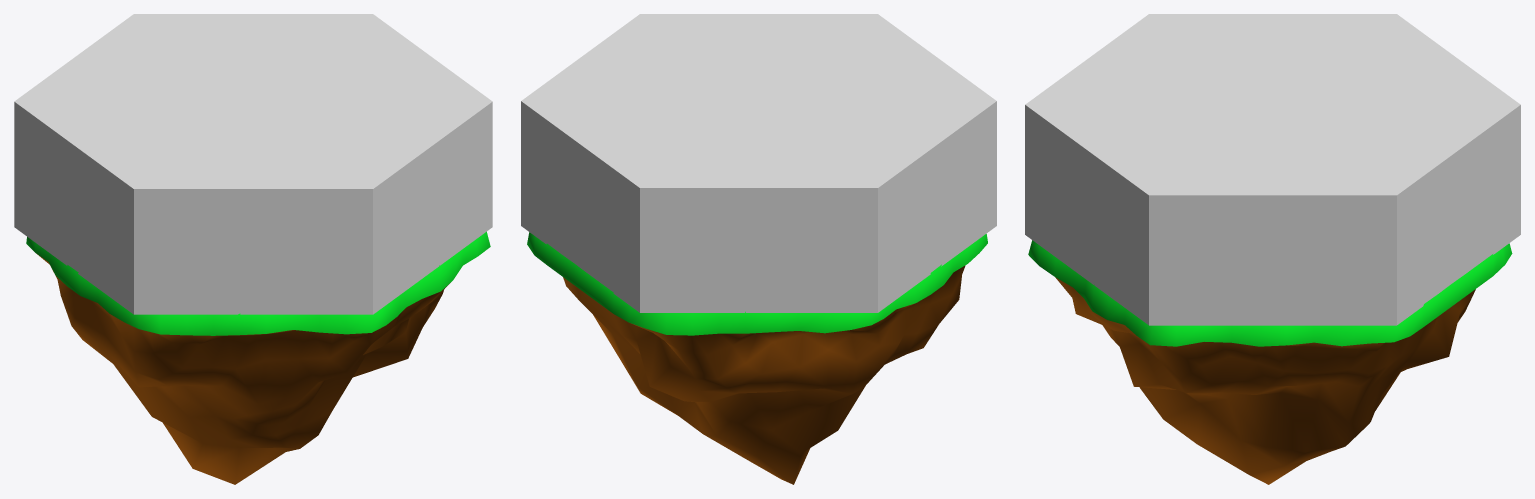
File: hex_island.fbx
The picture shows the model from 3 angles, left to right: view 1: azimuth 30°, elevation 25°; view 2: azimuth 150°, elevation 25°; view 3: azimuth 270°, elevation 25°; orthographic projection. The views are drawn at different scales.
Parts seen in each view (by area): view 1: IslandBoundaries, IslandDirt, IslandGrass; view 2: IslandBoundaries, IslandDirt, IslandGrass; view 3: IslandBoundaries, IslandDirt, IslandGrass.
Boxes of the visible parts, x1,y1,x2,y2 form: IslandBoundaries: [14, 14, 492, 314]; IslandDirt: [37, 254, 450, 484]; IslandGrass: [26, 231, 490, 335]; IslandBoundaries: [521, 14, 996, 312]; IslandDirt: [563, 265, 965, 484]; IslandGrass: [527, 232, 987, 335]; IslandBoundaries: [1025, 14, 1520, 325]; IslandDirt: [1055, 277, 1475, 484]; IslandGrass: [1028, 240, 1512, 346].
Bounding box in the file's own units: 1732 × 1739 × 2000.
